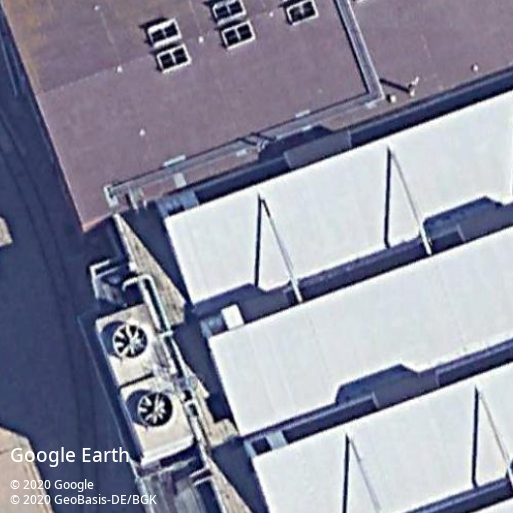Vent: (136, 391, 174, 429), (112, 323, 150, 360)
